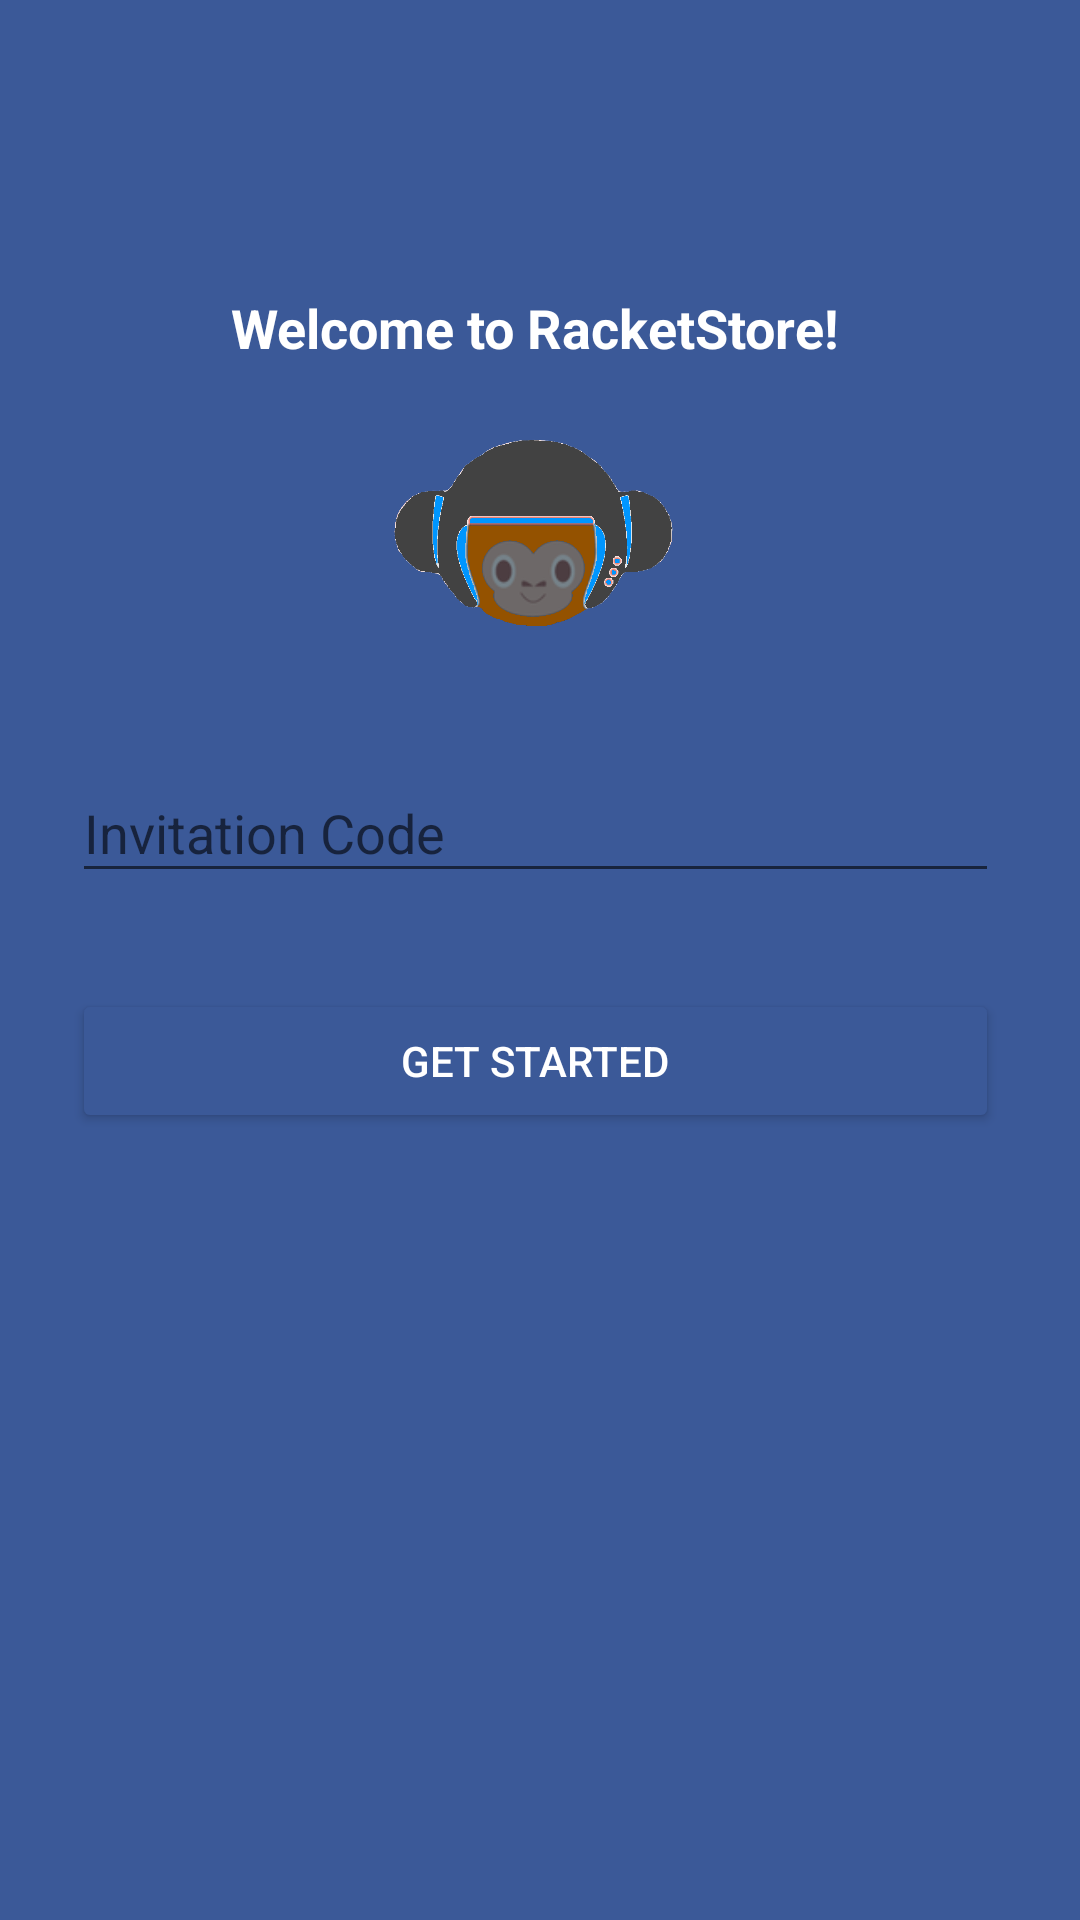

Named icons in this screenshot (1080px x 1920px) and their centers, [x,y]:
monkey: [533,533]
